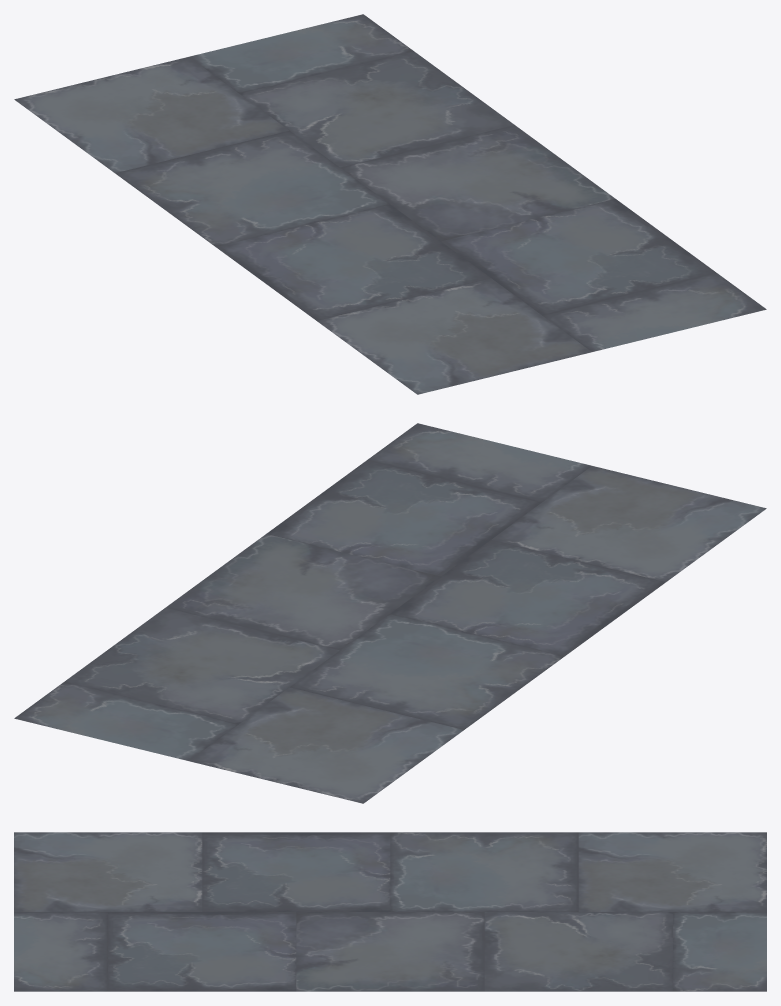
The model's file is Castle Ground X Bright 2x4.fbx.
3 views of the same model, one above another, from view 1: azimuth 30°, elevation 25°; view 2: azimuth 150°, elevation 25°; view 3: azimuth 270°, elevation 25° (orthographic). The views are drawn at different scales.
Parts seen in each view (by area): view 1: Castle Ground X Bright 2x4; view 2: Castle Ground X Bright 2x4; view 3: Castle Ground X Bright 2x4.
Boxes of the visible parts, box(x1,y1,x2,y2) form: Castle Ground X Bright 2x4: box(14, 14, 766, 394); Castle Ground X Bright 2x4: box(14, 423, 766, 803); Castle Ground X Bright 2x4: box(14, 832, 766, 991).
Bounding box in the file's own units: 1.5 × 8.05e-07 × 3.
